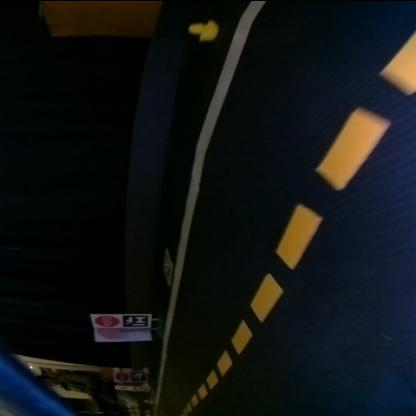Duckie: (189, 20, 217, 40)
QR code: (162, 247, 172, 282), (121, 313, 149, 325), (130, 371, 146, 380)
Stop sign: (94, 315, 118, 325), (115, 370, 128, 379)
